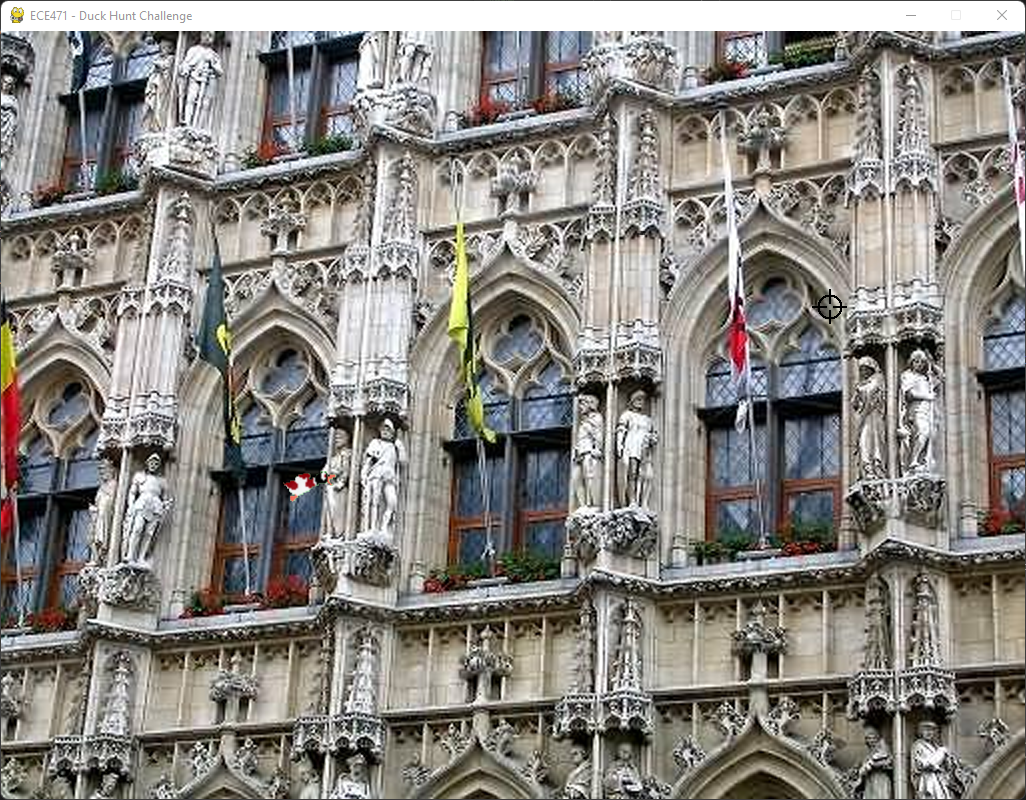red: (262, 460, 351, 507)
